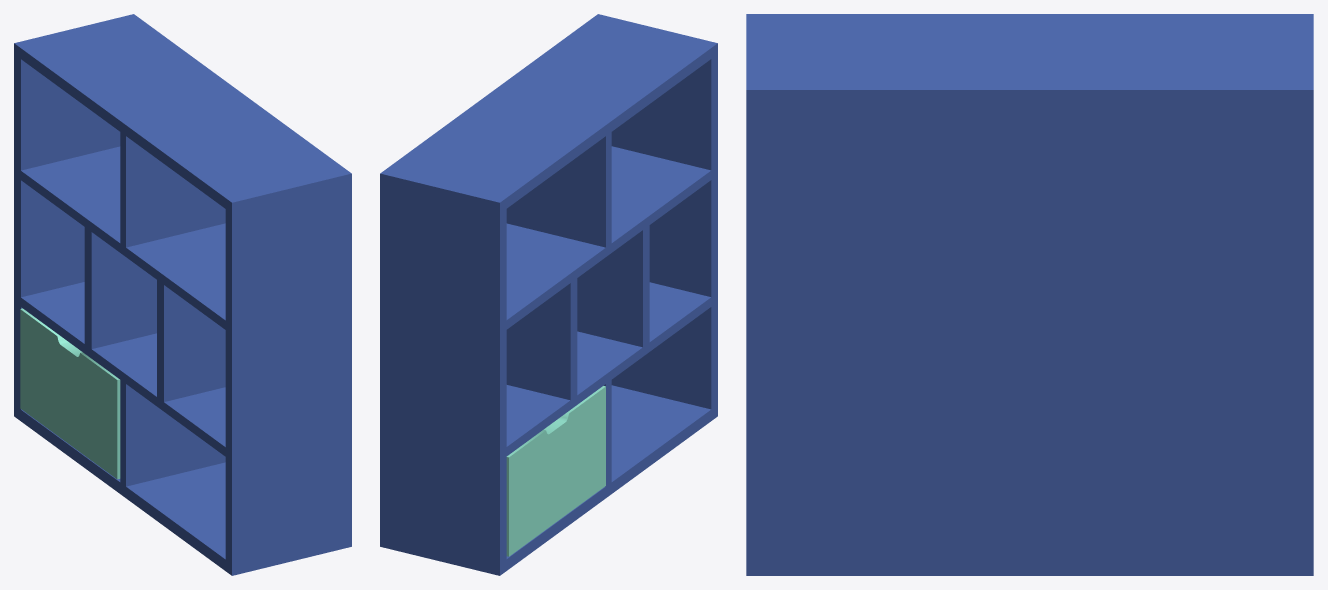
File: Shelf.FBX
3 renders of one model, left to right at view 1: azimuth 30°, elevation 25°; view 2: azimuth 150°, elevation 25°; view 3: azimuth 270°, elevation 25°, orthographic. The views are drawn at different scales.
Parts seen in each view (by area): view 1: shelf, Box002; view 2: shelf, Box002; view 3: shelf.
Part boxes in pixels (x1=…): shelf: x1=14, y1=14, x2=351, y2=575; Box002: x1=20, y1=308, x2=120, y2=479; shelf: x1=380, y1=14, x2=717, y2=575; Box002: x1=506, y1=386, x2=605, y2=556; shelf: x1=746, y1=14, x2=1313, y2=575.
Size of the model in its own units: 15.25 by 44.84 by 47.47.
